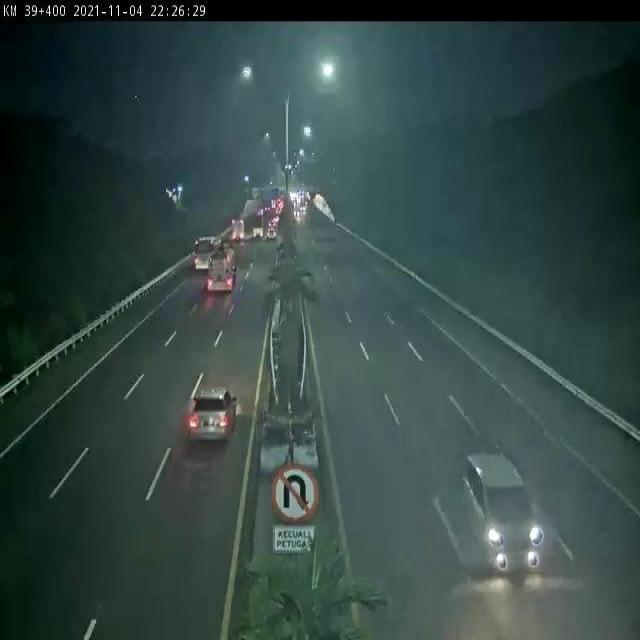bus-l-: (188, 228, 221, 276)
car: (462, 435, 555, 601), (172, 361, 253, 464)
truck-l-: (207, 247, 260, 300)
